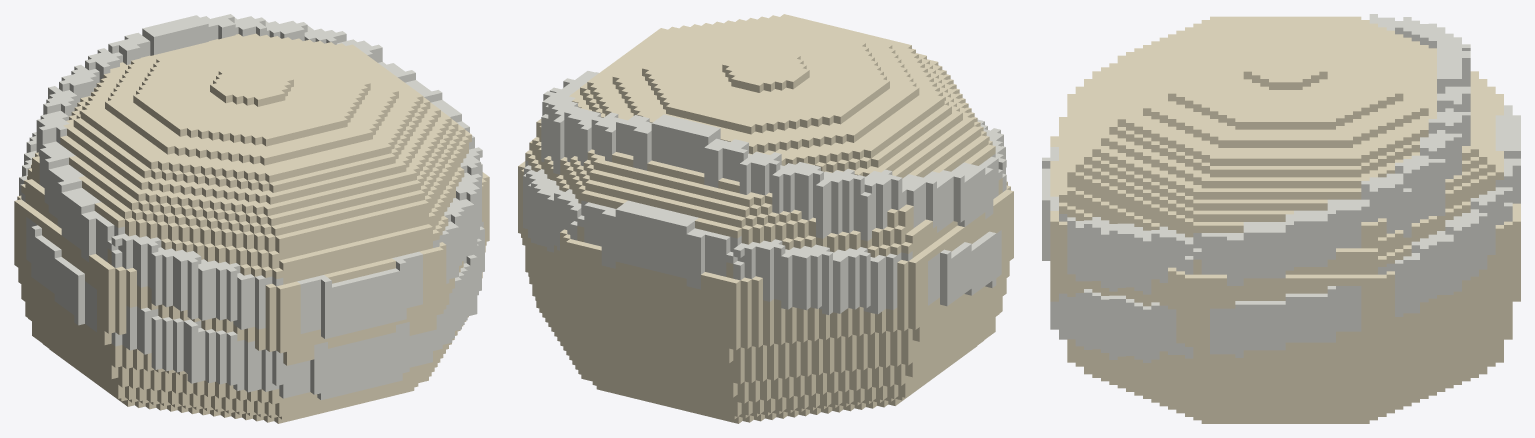
The model's file is turban.glb.
The picture shows the model from 3 angles, left to right: view 1: azimuth 30°, elevation 25°; view 2: azimuth 150°, elevation 25°; view 3: azimuth 270°, elevation 25°; orthographic projection. The views are drawn at different scales.
Parts seen in each view (by area): view 1: turban:compound; view 2: turban:compound; view 3: turban:compound.
Part boxes in pixels (box(x1,y1,x2,y2)): turban:compound: box(14, 14, 489, 423); turban:compound: box(518, 14, 1013, 423); turban:compound: box(1042, 14, 1520, 423).
Bounding box in the file's own units: 0.232 × 0.144 × 0.228.
